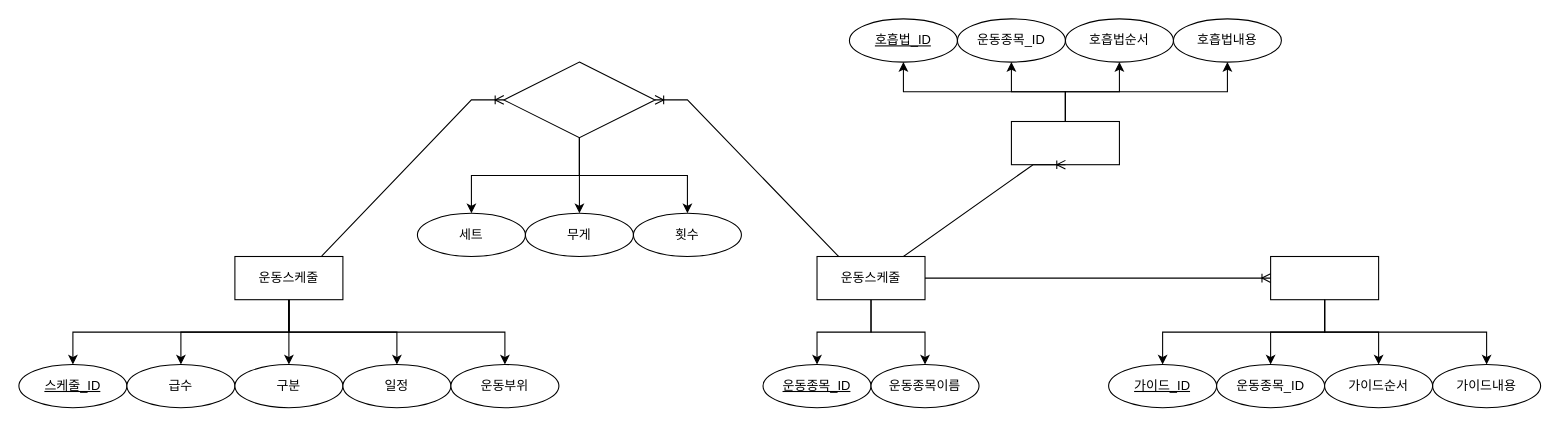
Image size: 1560x427. Some labels were removed from this diagram. The shapes that lost their labels are listed below. From the top down, each one's box as (x1, y1, x2, y2) in pixels, then its label:
(503, 61, 655, 138): 스케줄별 운동종목
(1010, 120, 1119, 165): 호흡법
(1270, 255, 1379, 300): 운동가이드
